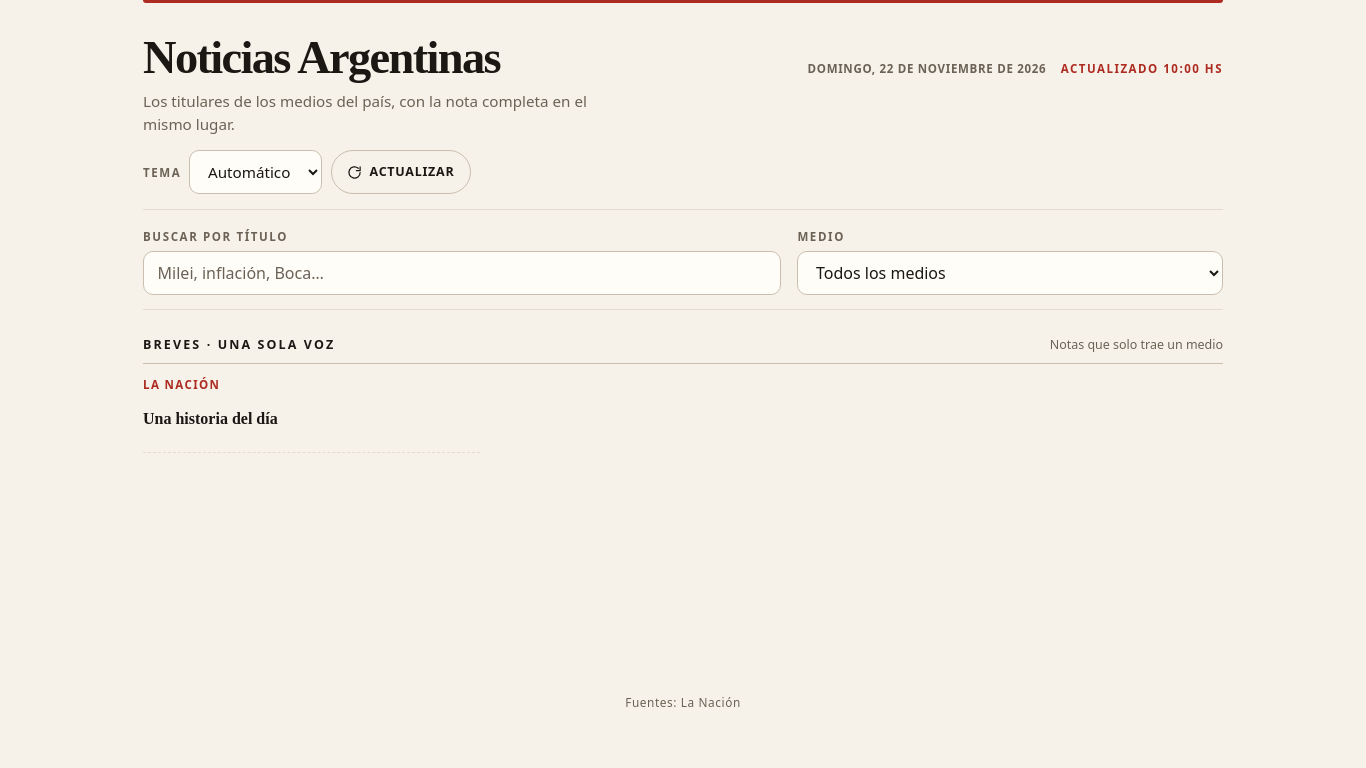
Test case: App speech integration › stops playback when the reader is closed
What coordinates should you click on to do the following:
click the button "Una historia del día"
I would click on:
 (210, 419)
Its box is [143,397,480,441].
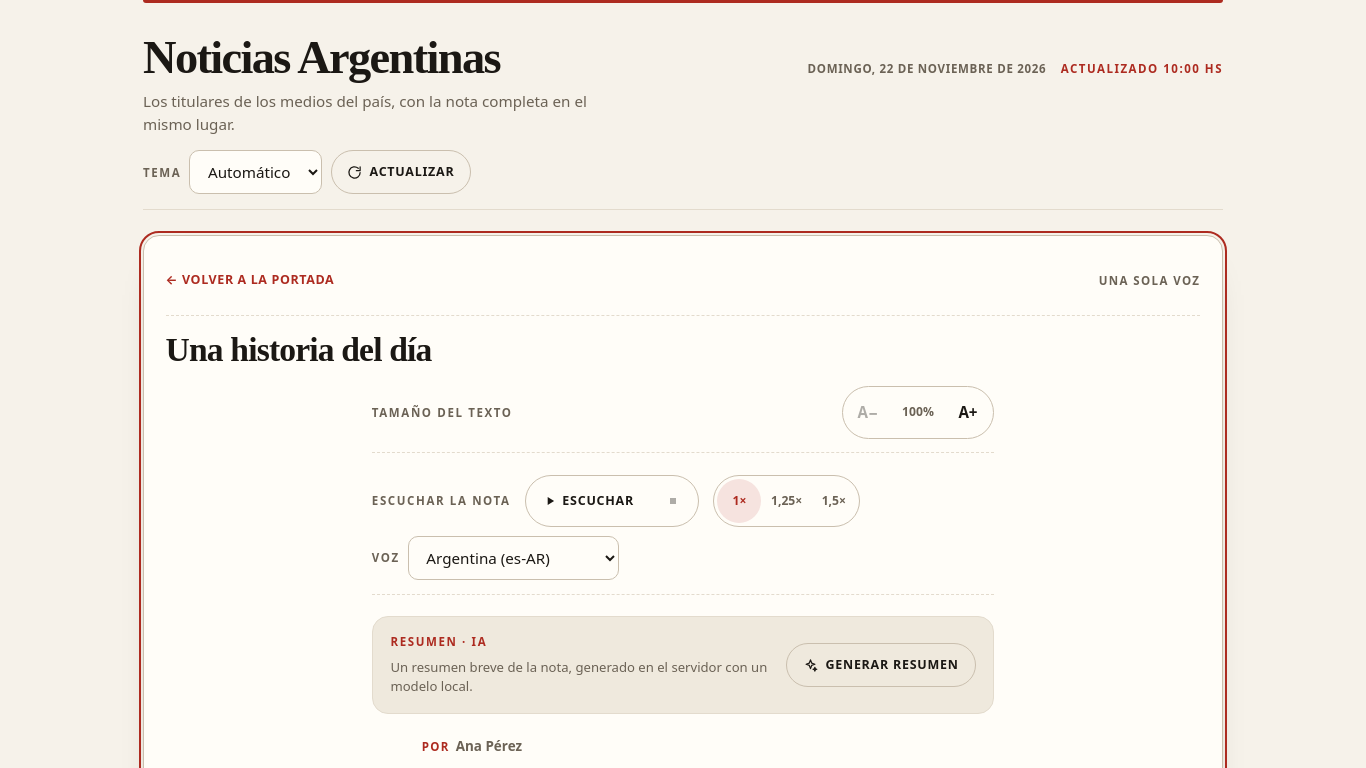
What coordinates should you click on to do the following:
click the button "Escuchar"
I would click on:
 (588, 501)
Its box is [529,479,648,523].
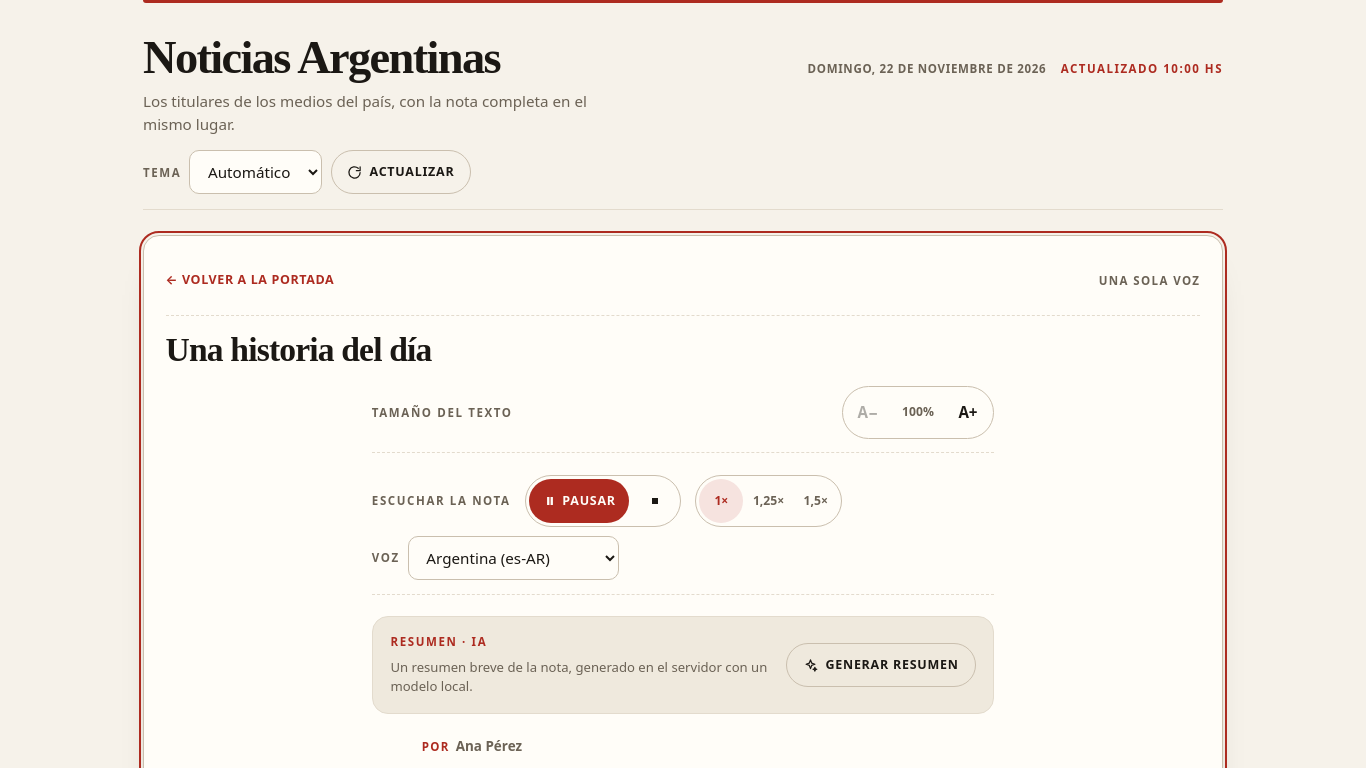
What coordinates should you click on to do the following:
click the button "← Volver a la portada"
I would click on:
 (250, 281)
Its box is [166,259,334,303].
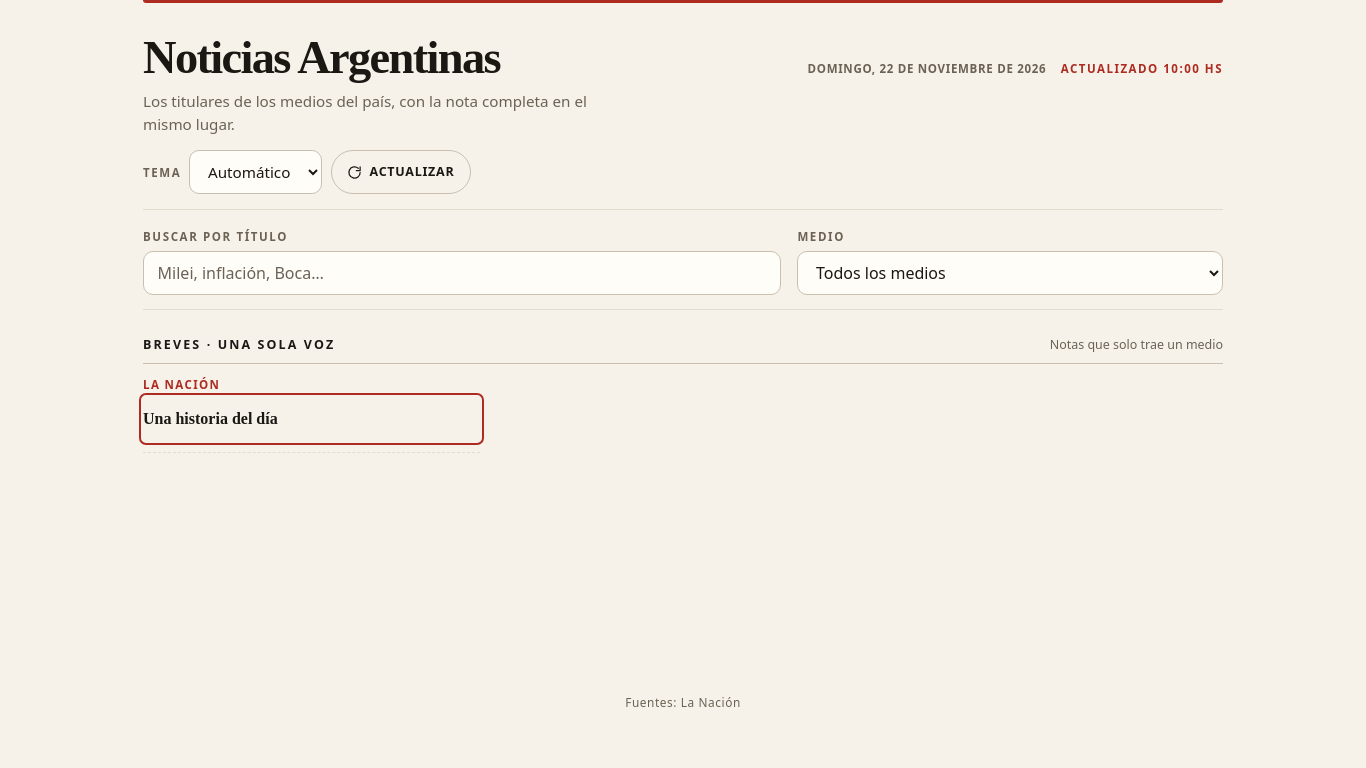
Check: the button "Volver a la portada" is gone
